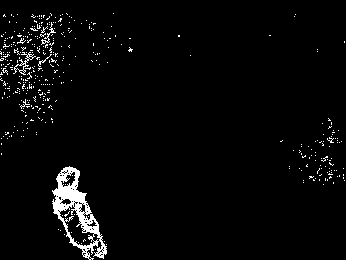person: (48, 163, 109, 260)
